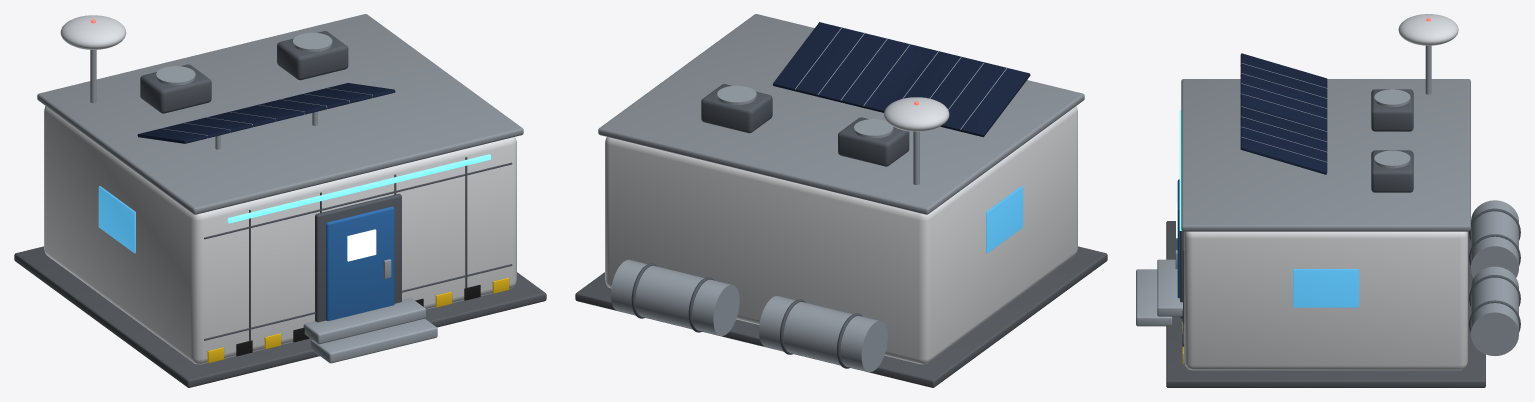
File: workshop.glb
3 renders of one model, left to right at view 1: azimuth 30°, elevation 25°; view 2: azimuth 150°, elevation 25°; view 3: azimuth 270°, elevation 25°, orthographic. The views are drawn at different scales.
Parts seen in each view (by area): view 1: hab, Cube.007, Cube, Cube.021, Cube.020, Cube.027, Cube.028, Cube.015, Cube.010, Cube.008, Cube.009, Sphere (+7 smaller); view 2: hab, Cube.007, Cube.015, Cube, Cube.010, Cylinder.006, Cylinder.005, Cube.009, Cube.008, Sphere, Cube.025, Cylinder.001 (+1 smaller); view 3: hab, Cube.007, Cube, Cube.010, Cube.015, Cylinder.006, Cylinder.005, Cube.026, Sphere, Cube.027, Cube.009, Cube.008 (+6 smaller).
Boxes of the visible parts, box(x1,y1,x2,y2) form: hab: box(44, 106, 516, 364); Cube.007: box(37, 14, 523, 214); Cube: box(14, 246, 546, 387); Cube.021: box(326, 206, 394, 320); Cube.020: box(315, 193, 401, 322); Cube.027: box(311, 318, 437, 363); Cube.028: box(303, 297, 425, 344); Cube.015: box(235, 83, 395, 119); Cube.010: box(137, 106, 297, 143); Cube.008: box(140, 64, 211, 113); Cube.009: box(277, 31, 348, 80); Sphere: box(60, 15, 126, 49); hab: box(605, 106, 1077, 364); Cube.007: box(598, 14, 1084, 214); Cube.015: box(773, 22, 931, 112); Cube: box(575, 246, 1107, 387); Cube.010: box(870, 46, 1030, 137); Cylinder.006: box(610, 259, 739, 335); Cylinder.005: box(759, 296, 887, 372); Cube.009: box(701, 84, 772, 133); Cube.008: box(838, 117, 909, 166); Sphere: box(884, 97, 949, 131); Cube.025: box(986, 186, 1023, 253); Cylinder.001: box(717, 85, 756, 104); hab: box(1184, 231, 1467, 370); Cube.007: box(1181, 79, 1470, 231); Cube: box(1166, 221, 1485, 387); Cube.010: box(1240, 53, 1327, 128); Cube.015: box(1240, 97, 1327, 174); Cylinder.006: box(1471, 266, 1518, 355); Cylinder.005: box(1471, 200, 1518, 277); Cube.026: box(1293, 269, 1359, 307); Sphere: box(1398, 14, 1458, 45); Cube.027: box(1136, 269, 1172, 326); Cube.009: box(1371, 150, 1413, 192); Cube.008: box(1371, 89, 1413, 131).
Size of the model in its own units: 6.3 by 4.24 by 6.38.
